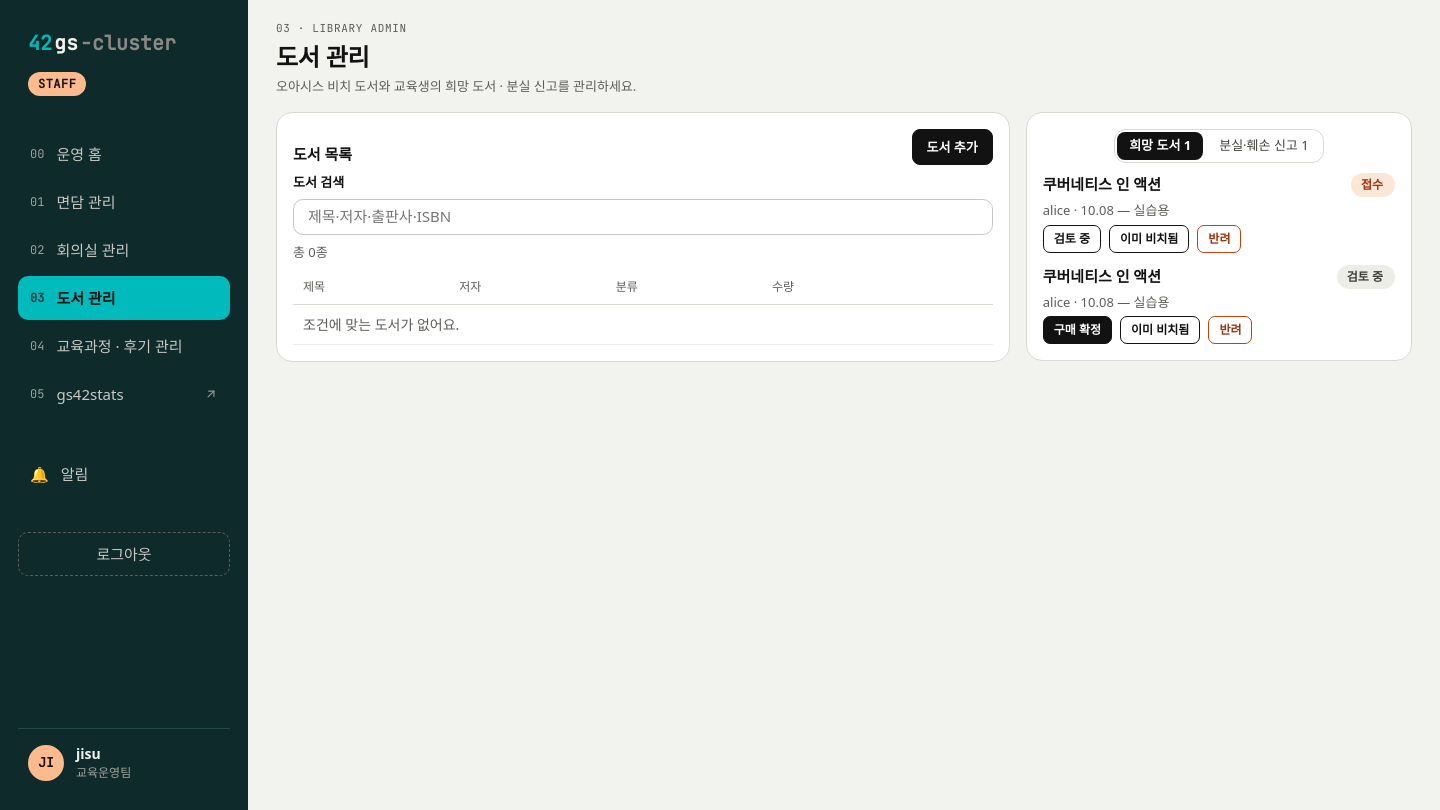
it: 운영 도서 관리 화면 › 희망 도서와 분실·훼손 신고는 도서 목록 옆 한 카드의 탭이고, 탭에 처리할 건수가 보인다
Expected: the heading "도서 관리" is shown, [276,40,369,72]
Click the tab "분실·훼손 신고 1" at (1264, 146), box [1207,132,1321,160]
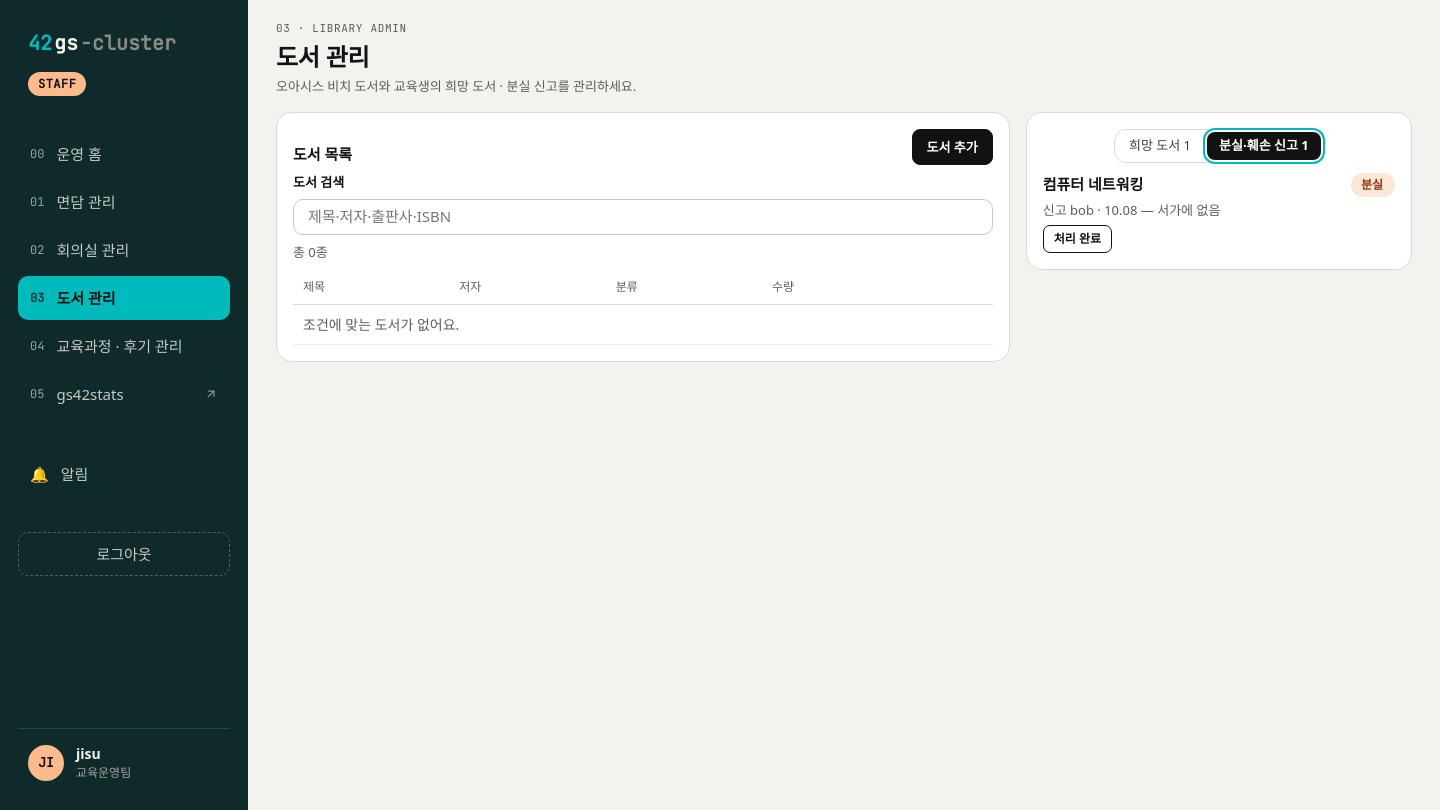
Expected: the list item with aria-label "신고 컴퓨터 네트워킹" is shown, [1043,173,1395,252]
